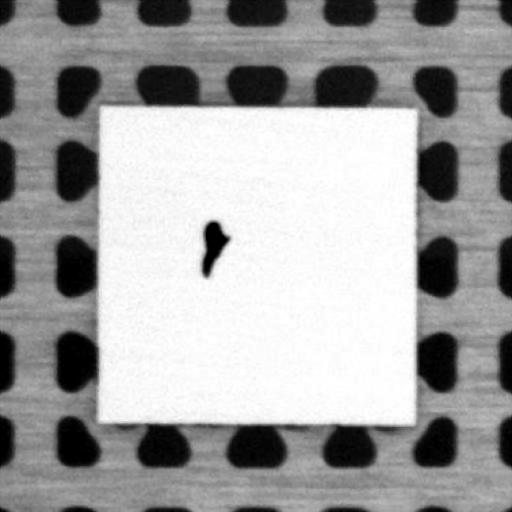DIE_INK: (200, 218, 230, 280)
